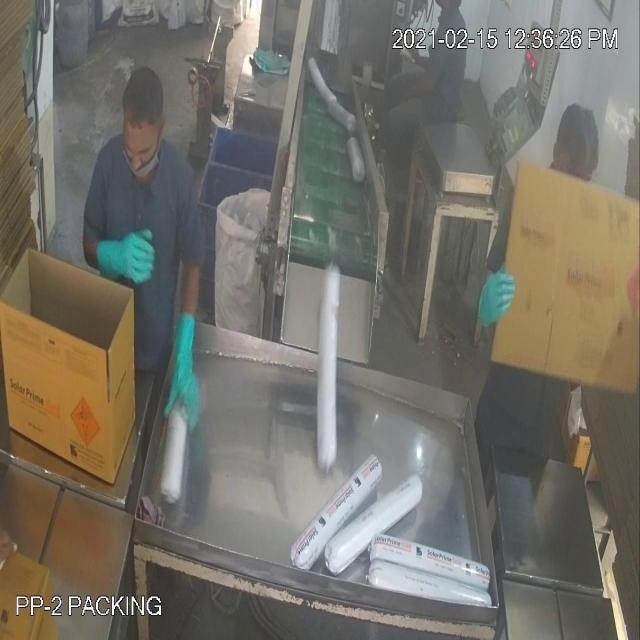Gloves: (43, 79, 496, 366)
